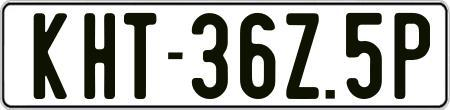3: (191, 12, 227, 98)
5: (344, 11, 384, 102)
6: (238, 10, 279, 102)
H: (82, 12, 116, 100)
K: (32, 13, 71, 104)
P: (392, 11, 433, 102)
T: (121, 10, 154, 97)
Z: (285, 12, 322, 104)
